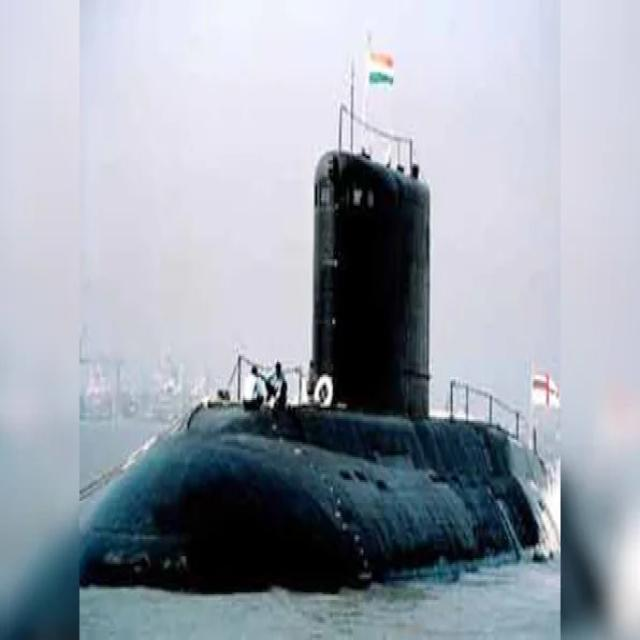Submarine-Sindhughosh-Class-IND: (76, 29, 559, 588)
